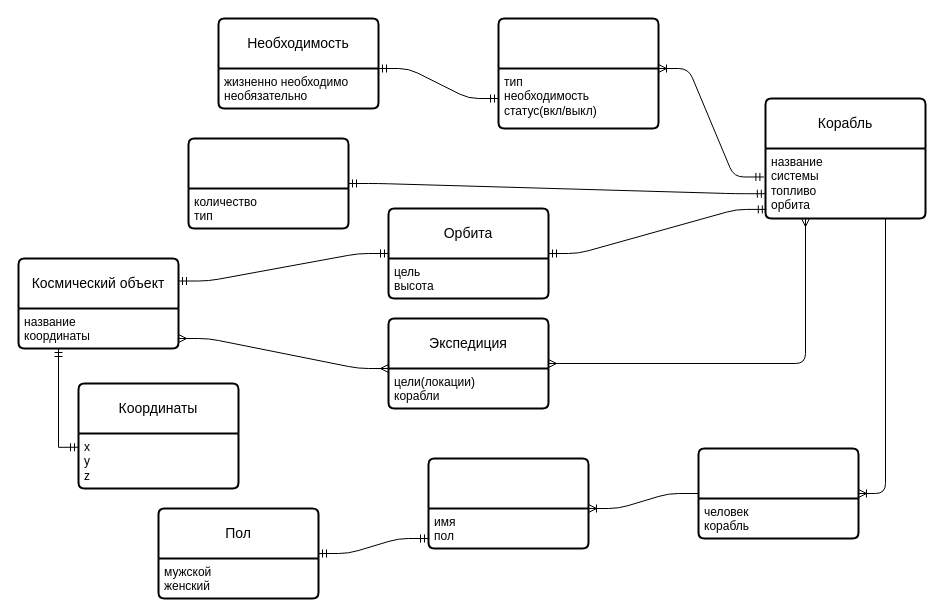
The diagram is 943 pixels wide and 616 high, and some of its shapes have lost their labels. Each missing label, with the box of its shape:
Системы корабля: (497, 17, 659, 129)
Топливо: (187, 137, 349, 229)
Человек: (427, 457, 589, 549)
Экипаж корабля: (697, 447, 859, 539)
